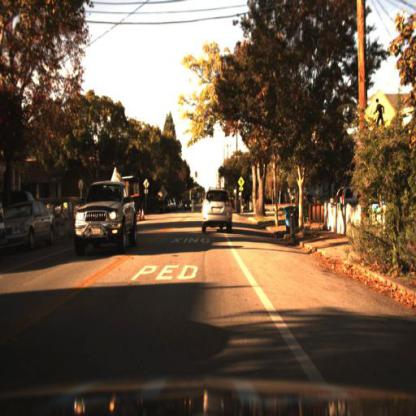car: (73, 179, 141, 260), (2, 202, 58, 253), (200, 190, 234, 238), (335, 180, 379, 209), (336, 183, 364, 204)
